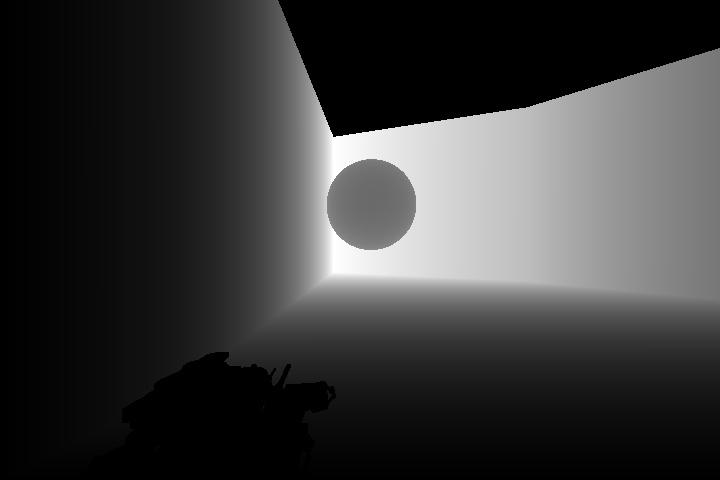mushroom: (325, 158, 419, 252)
